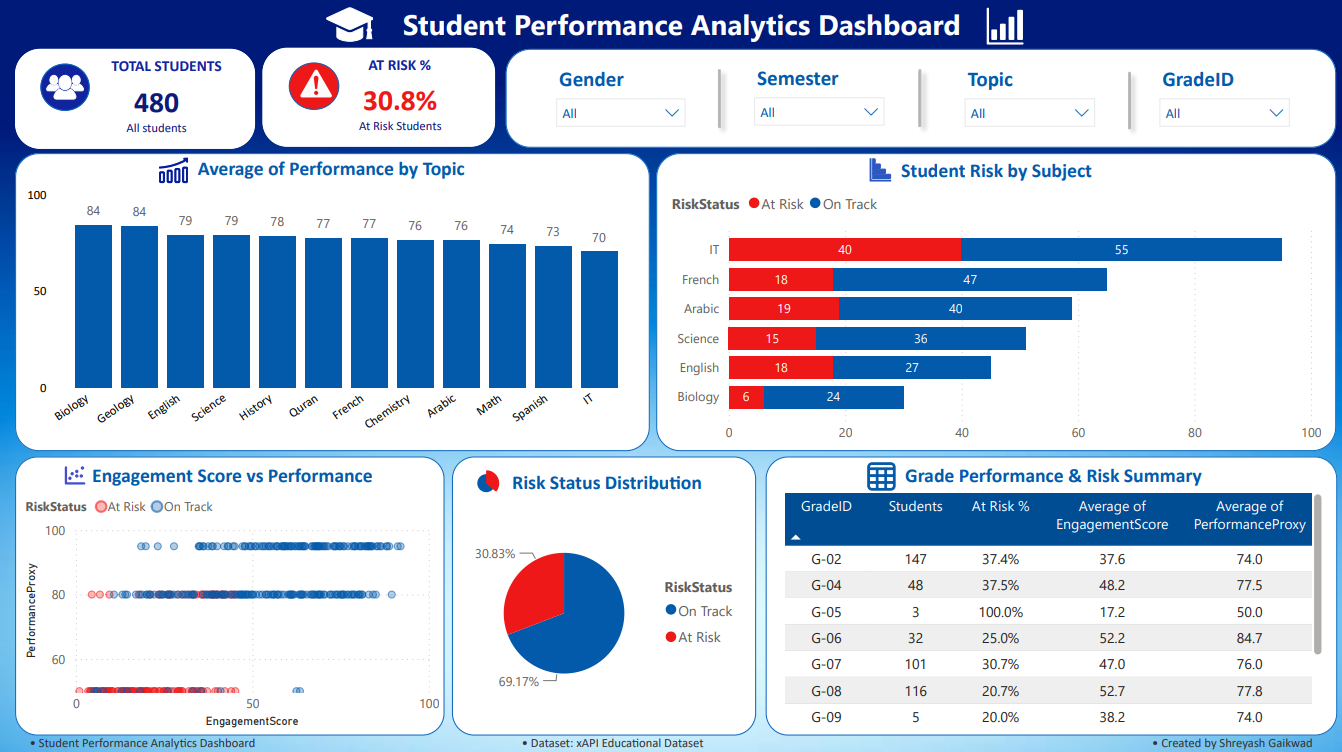

Layout of this report page (visuals, bound fields, positions):
{"tool":"powerbi","page":{"name":"Dashboard","canvas":[1280,720],"ordinal":0},"visuals":[{"type":"textbox","box":[369.1,0,559.1,50.9],"z":0},{"type":"shape","box":[249.8,46.2,220.8,94.1],"z":0,"group":"g6"},{"type":"shape","box":[15,46.8,227.5,95],"z":0,"group":"g3"},{"type":"shape","box":[481.2,46.8,788.8,94],"z":0,"group":"g8"},{"type":"shape","box":[15,146,602.5,282.5],"z":0,"group":"g2"},{"type":"shape","box":[623.8,146,646.2,282.5],"z":0,"group":"g5"},{"type":"group","id":"g1","title":"ScatterPlot","box":[15,434,407.5,265],"z":0},{"type":"shape","box":[15,434,407.5,265],"z":0,"group":"g1"},{"type":"shape","box":[430.2,434.2,288.8,265],"z":0,"group":"g4"},{"type":"shape","box":[727.8,434.2,542.5,265],"z":0,"group":"g7"},{"type":"image","box":[307.3,1.8,51.8,44.5],"z":1000},{"type":"slicer","fields":{"Values":["StudentPerformance.gender"]},"box":[518.7,58,143.8,72.5],"z":1000,"group":"g8"},{"type":"cardVisual","fields":{"Data":["StudentPerformance.At Risk %"]},"box":[306.8,69.5,148.4,70],"z":1000,"group":"g6"},{"type":"cardVisual","fields":{"Data":["StudentPerformance.Total Students"]},"box":[86.2,69.6,127.5,70],"z":1000,"group":"g3"},{"type":"group","id":"g2","title":"Clustered CloumnChart","box":[15,146,602.5,283.2],"z":1000},{"type":"clusteredColumnChart","title":"Average of Performance by Topic","fields":{"Category":["StudentPerformance.Topic"],"Y":["Avg(StudentPerformance.PerformanceProxy)"]},"box":[21.5,149.2,588.2,280],"z":1000,"group":"g2"},{"type":"barChart","title":"Student Risk by Subject","fields":{"Category":["StudentPerformance.Topic"],"Series":["StudentPerformance.RiskStatus"],"Y":["StudentPerformance.Total Students"]},"box":[634.3,151,626.4,278.2],"z":1000,"group":"g5"},{"type":"scatterChart","title":"Engagement Score vs Performance","fields":{"X":["StudentPerformance.EngagementScore"],"Y":["StudentPerformance.PerformanceProxy"],"Series":["StudentPerformance.RiskStatus"]},"box":[20,440.2,402.5,256.2],"z":1000,"group":"g1"},{"type":"image","box":[821.6,440.4,30.8,25.8],"z":1000,"group":"g7"},{"type":"pieChart","title":"Risk Status Distribution","fields":{"Category":["StudentPerformance.RiskStatus"],"Y":["StudentPerformance.Total Students"]},"box":[436.4,446.7,282.5,250],"z":1000,"group":"g4"},{"type":"image","box":[936.4,8.2,38.2,34.5],"z":2000},{"type":"group","id":"g3","title":"Total Student Card","box":[15,46.8,227.5,95],"z":2000},{"type":"slicer","fields":{"Values":["StudentPerformance.Semester"]},"box":[707.2,57.1,143.8,73.1],"z":2000,"group":"g8"},{"type":"shape","box":[275,60.5,47.5,45],"z":2000,"group":"g6"},{"type":"shape","box":[38.8,60.6,47.5,45],"z":2000,"group":"g3"},{"type":"image","box":[820.8,149,31.5,26.2],"z":2000,"group":"g5"},{"type":"image","box":[149.7,149.2,30.9,26.4],"z":2000,"group":"g2"},{"type":"image","box":[55.5,438.8,31.1,26.1],"z":2000,"group":"g1"},{"type":"tableEx","title":"Grade Performance & Risk Summary","fields":{"Values":["StudentPerformance.GradeID","StudentPerformance.Total Students","StudentPerformance.At Risk %","Avg(StudentPerformance.EngagementScore)","Avg(StudentPerformance.PerformanceProxy)"]},"box":[740.3,440.4,521.2,256.2],"z":2000,"group":"g7"},{"type":"image","box":[449,445,31.2,25.6],"z":2000,"group":"g4"},{"type":"slicer","fields":{"Values":["StudentPerformance.Topic"]},"box":[907.2,57.9,143.8,73.1],"z":3000,"group":"g8"},{"type":"image","box":[277.4,65.5,45,30],"z":3000,"group":"g6"},{"type":"image","box":[40.9,65.6,42.9,35],"z":3000,"group":"g3"},{"type":"group","id":"g4","title":"Pie Chart","box":[430.2,434.2,288.8,265],"z":3000},{"type":"slicer","fields":{"Values":["StudentPerformance.GradeID"]},"box":[1092.4,58,143.8,72.5],"z":4000,"group":"g8"},{"type":"group","id":"g5","title":"StackedBarChart","box":[623.8,146,646.2,283.2],"z":4000},{"type":"group","id":"g6","title":"At Risk % Card","box":[249.8,46.2,220.8,94.1],"z":5000},{"type":"shape","box":[673.3,57.9,21.5,73.1],"z":5000,"group":"g8"},{"type":"shape","box":[864.9,57.9,20.8,71.5],"z":6000,"group":"g8"},{"type":"group","id":"g7","title":"Table","box":[727.8,434.2,542.5,265],"z":6000},{"type":"group","id":"g8","title":"Slicer","box":[481.2,46.8,788.8,94],"z":7000},{"type":"shape","box":[1062.7,59.6,21,72],"z":7000,"group":"g8"},{"type":"textbox","box":[23.7,691.3,1253.5,29],"z":8001}]}

Visuals, with their boxes in screenshot pixels (x1, y1, x2, y2), scaled from the page's 1280x720 canvas onto the 1342x752 screenshot:
textbox: <bbox>387, 0, 973, 53</bbox>
shape: <bbox>262, 48, 493, 147</bbox>
shape: <bbox>16, 49, 254, 148</bbox>
shape: <bbox>505, 49, 1332, 147</bbox>
shape: <bbox>16, 152, 647, 448</bbox>
shape: <bbox>654, 152, 1332, 448</bbox>
"ScatterPlot" group: <bbox>16, 453, 443, 730</bbox>
shape: <bbox>16, 453, 443, 730</bbox>
shape: <bbox>451, 453, 754, 730</bbox>
shape: <bbox>763, 453, 1332, 730</bbox>
image: <bbox>322, 2, 376, 48</bbox>
slicer - StudentPerformance.gender: <bbox>544, 61, 695, 136</bbox>
cardVisual - StudentPerformance.At Risk %: <bbox>322, 73, 477, 146</bbox>
cardVisual - StudentPerformance.Total Students: <bbox>90, 73, 224, 146</bbox>
"Clustered CloumnChart" group: <bbox>16, 152, 647, 448</bbox>
"Average of Performance by Topic" clusteredColumnChart: <bbox>23, 156, 639, 448</bbox>
"Student Risk by Subject" barChart: <bbox>665, 158, 1322, 448</bbox>
"Engagement Score vs Performance" scatterChart: <bbox>21, 460, 443, 727</bbox>
image: <bbox>861, 460, 894, 487</bbox>
"Risk Status Distribution" pieChart: <bbox>458, 467, 754, 728</bbox>
image: <bbox>982, 9, 1022, 45</bbox>
"Total Student Card" group: <bbox>16, 49, 254, 148</bbox>
slicer - StudentPerformance.Semester: <bbox>741, 60, 892, 136</bbox>
shape: <bbox>288, 63, 338, 110</bbox>
shape: <bbox>41, 63, 90, 110</bbox>
image: <bbox>861, 156, 894, 183</bbox>
image: <bbox>157, 156, 189, 183</bbox>
image: <bbox>58, 458, 91, 486</bbox>
"Grade Performance & Risk Summary" tableEx: <bbox>776, 460, 1323, 728</bbox>
image: <bbox>471, 465, 503, 492</bbox>
slicer - StudentPerformance.Topic: <bbox>951, 60, 1102, 137</bbox>
image: <bbox>291, 68, 338, 100</bbox>
image: <bbox>43, 69, 88, 105</bbox>
"Pie Chart" group: <bbox>451, 453, 754, 730</bbox>
slicer - StudentPerformance.GradeID: <bbox>1145, 61, 1296, 136</bbox>
"StackedBarChart" group: <bbox>654, 152, 1332, 448</bbox>
"At Risk % Card" group: <bbox>262, 48, 493, 147</bbox>
shape: <bbox>706, 60, 728, 137</bbox>
shape: <bbox>907, 60, 929, 135</bbox>
"Table" group: <bbox>763, 453, 1332, 730</bbox>
"Slicer" group: <bbox>505, 49, 1332, 147</bbox>
shape: <bbox>1114, 62, 1136, 137</bbox>
textbox: <bbox>25, 722, 1339, 751</bbox>
